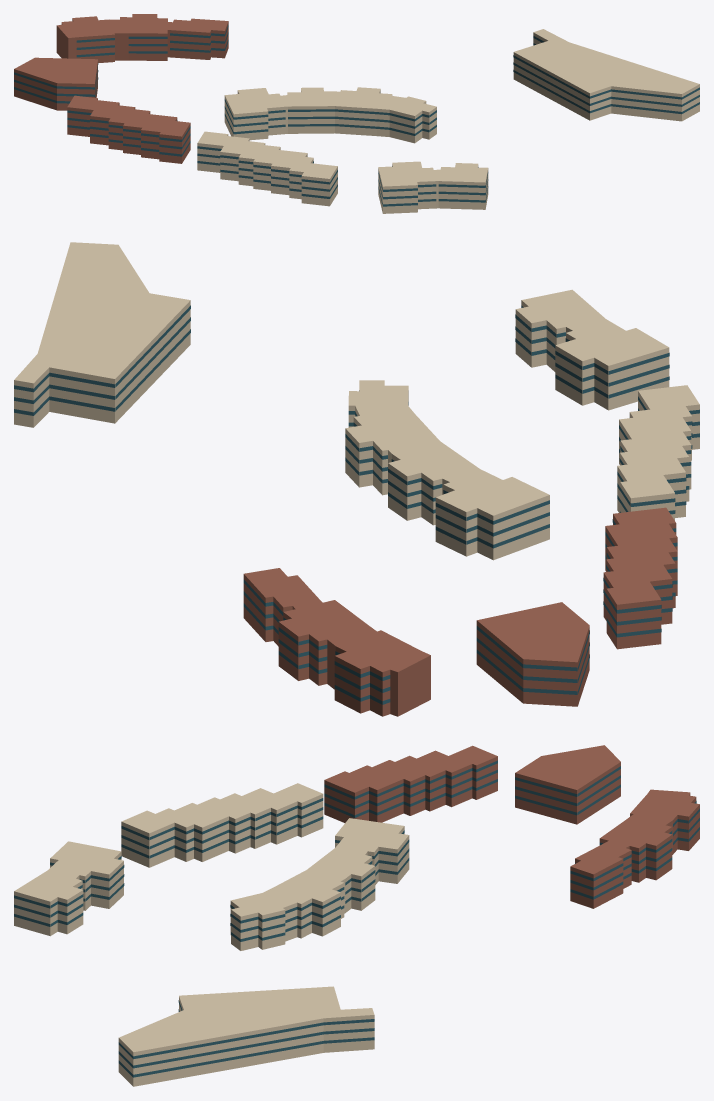
File: city_6_-7.glb
3 views of the same model, one above another, from view 1: azimuth 30°, elevation 25°; view 2: azimuth 150°, elevation 25°; view 3: azimuth 270°, elevation 25° (orthographic). The views are drawn at different scales.
Visible parts, largest first — view 1: city_6_-7; view 2: city_6_-7; view 3: city_6_-7.
Part boxes in pixels (<box>): city_6_-7: <box>14,14,699,213</box>; city_6_-7: <box>14,242,699,716</box>; city_6_-7: <box>14,745,699,1086</box>.
Bounding box in the file's own units: 286 × 15 × 270.
